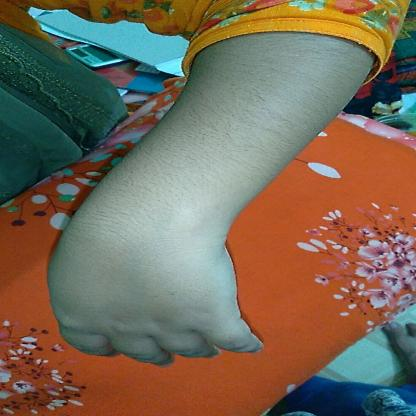hand: (25, 88, 350, 374)
